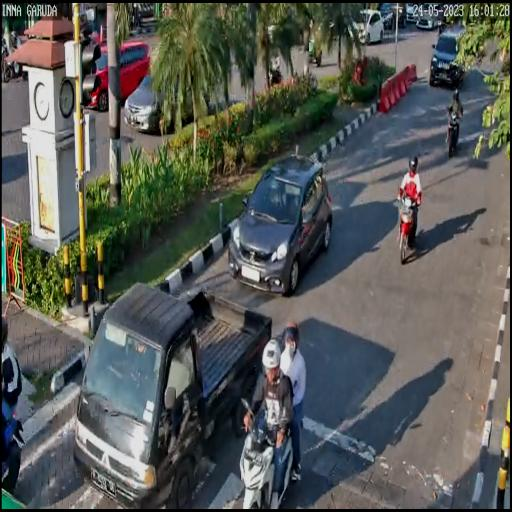mobil: (68, 275, 277, 502), (224, 151, 336, 291), (429, 32, 466, 94)
motor: (234, 388, 308, 504), (396, 184, 421, 266), (444, 103, 465, 154)
